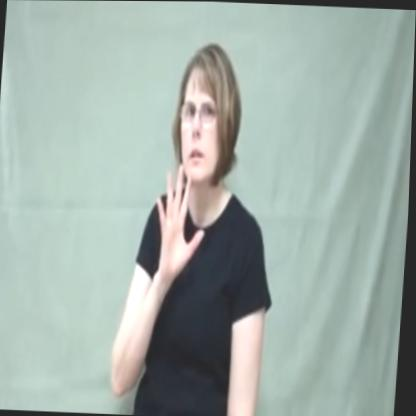Talk: (148, 31, 258, 285)
